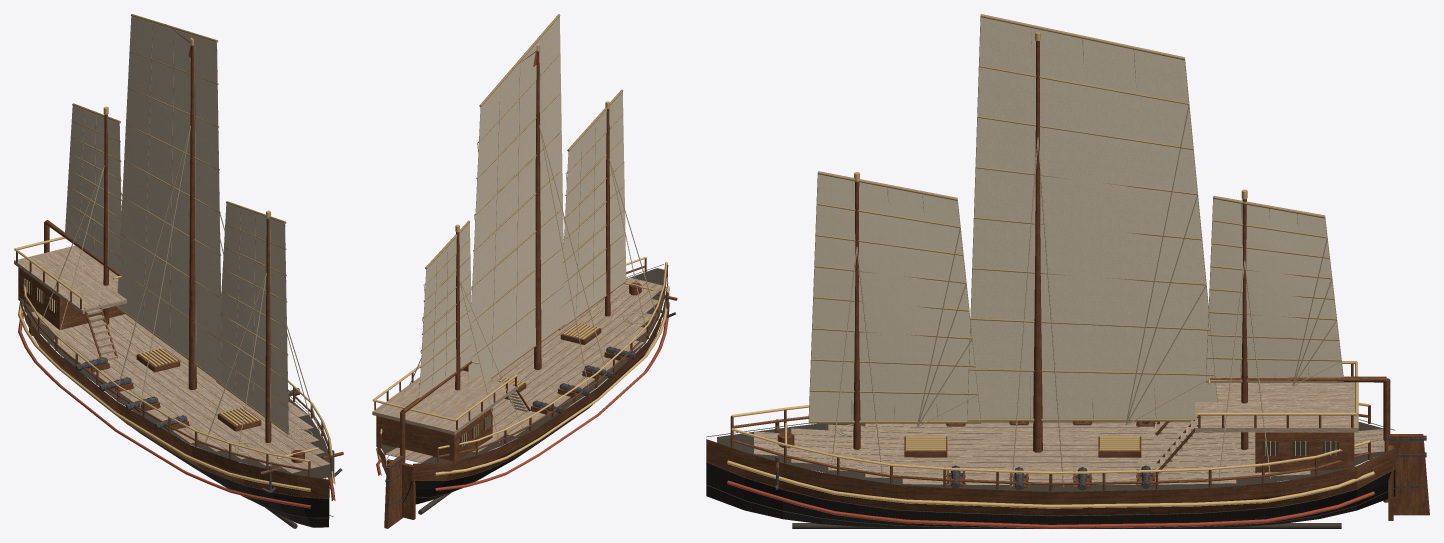
The model's file is fuchuan-lod2.glb.
The picture shows the model from 3 angles, left to right: view 1: azimuth 30°, elevation 25°; view 2: azimuth 150°, elevation 25°; view 3: azimuth 270°, elevation 25°; orthographic projection. The views are drawn at different scales.
Parts seen in each view (by area): view 1: sail_1, deck, sail_0, hull, sail_2, deck_fittings, bulwark_rails, mast_timber_1, sterncastle, mast_timber_0, rigging_1, rigging_0 (+4 smaller); view 2: sail_1, deck, sail_0, hull, sail_2, sterncastle, deck_fittings, bulwark_rails, mast_timber_1, rudder_blade, mast_timber_0, rigging_1 (+4 smaller); view 3: sail_1, sail_0, deck, hull, sail_2, bulwark_rails, deck_fittings, sterncastle, mast_timber_1, rudder_blade, mast_timber_0, rigging_1 (+1 smaller).
Boxes of the visible parts, <box> form: sail_1: <box>116,14,222,384</box>; deck: <box>14,245,331,478</box>; sail_0: <box>216,201,290,434</box>; hull: <box>18,296,335,528</box>; sail_2: <box>65,103,122,278</box>; deck_fittings: <box>14,236,343,493</box>; bulwark_rails: <box>23,284,332,476</box>; mast_timber_1: <box>188,45,196,389</box>; sterncastle: <box>18,267,124,329</box>; mast_timber_0: <box>265,218,271,442</box>; rigging_1: <box>116,126,224,410</box>; rigging_0: <box>204,273,321,457</box>; sail_1: <box>468,14,565,381</box>; deck: <box>372,268,664,463</box>; sail_0: <box>559,89,626,330</box>; hull: <box>376,264,669,519</box>; sail_2: <box>418,220,472,398</box>; sterncastle: <box>376,407,492,465</box>; deck_fittings: <box>372,282,677,447</box>; bulwark_rails: <box>379,256,667,462</box>; mast_timber_1: <box>534,51,541,369</box>; rudder_blade: <box>384,455,403,528</box>; mast_timber_0: <box>605,109,610,316</box>; rigging_1: <box>539,125,606,389</box>; sail_1: <box>967,14,1217,425</box>; sail_0: <box>808,171,980,427</box>; deck: <box>717,376,1384,491</box>; hull: <box>706,419,1395,528</box>; sail_2: <box>1206,196,1343,386</box>; bulwark_rails: <box>730,402,1370,491</box>; deck_fittings: <box>775,361,1357,489</box>; sterncastle: <box>1255,432,1354,472</box>; mast_timber_1: <box>1033,41,1042,452</box>; rudder_blade: <box>1384,434,1429,515</box>; mast_timber_0: <box>853,181,860,449</box>; rigging_1: <box>1011,137,1064,487</box>.
Size of the model in its own units: 9.53 by 26.38 by 33.61.
12 materials, 6 textured.
